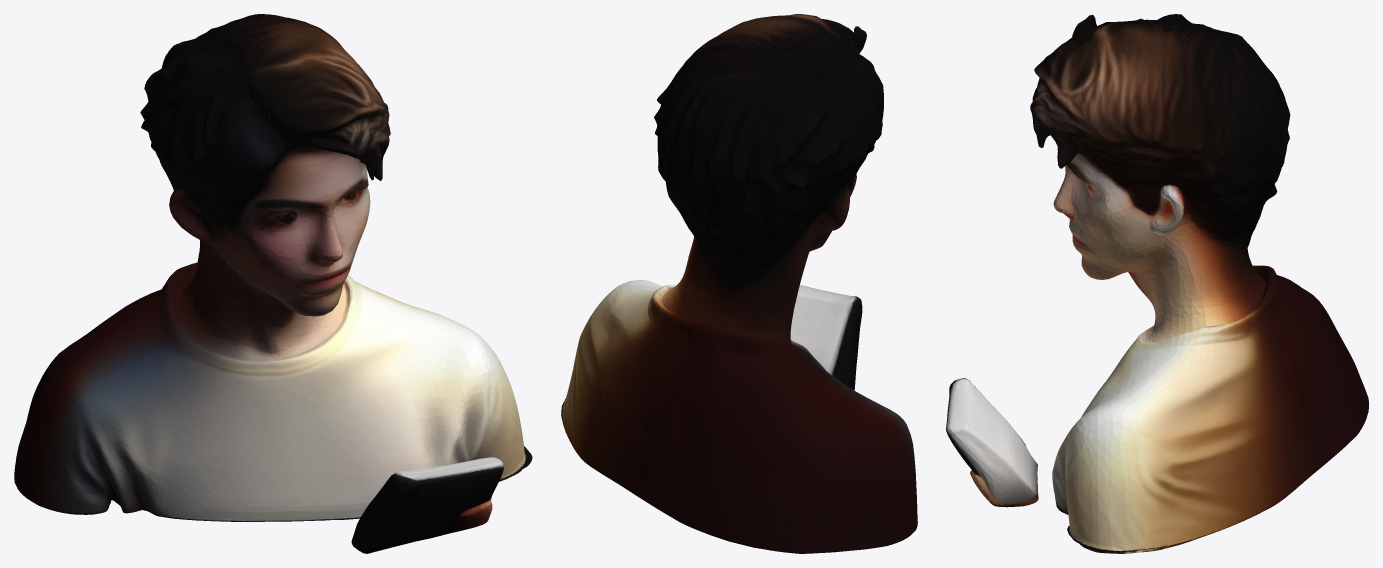
The model's file is creator-male.glb.
3 renders of one model, left to right at view 1: azimuth 30°, elevation 25°; view 2: azimuth 150°, elevation 25°; view 3: azimuth 270°, elevation 25°, orthographic. The views are drawn at different scales.
Parts seen in each view (by area): view 1: world; view 2: world; view 3: world.
Boxes of the visible parts, x1,y1,x2,y2 form: world: (14,14,532,553); world: (561,14,917,553); world: (946,14,1368,553).
Bounding box in the file's own units: 0.9772 × 0.9992 × 0.9098.
Materials: 1 (1 with a texture image).
